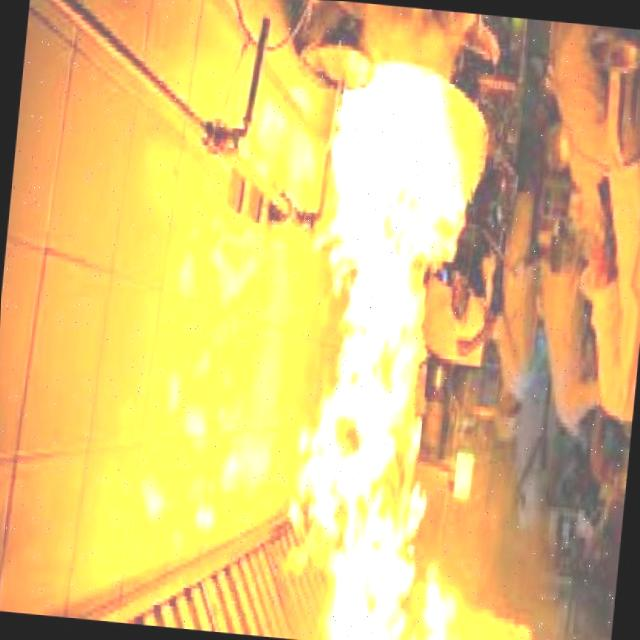fire: (274, 54, 521, 640)
